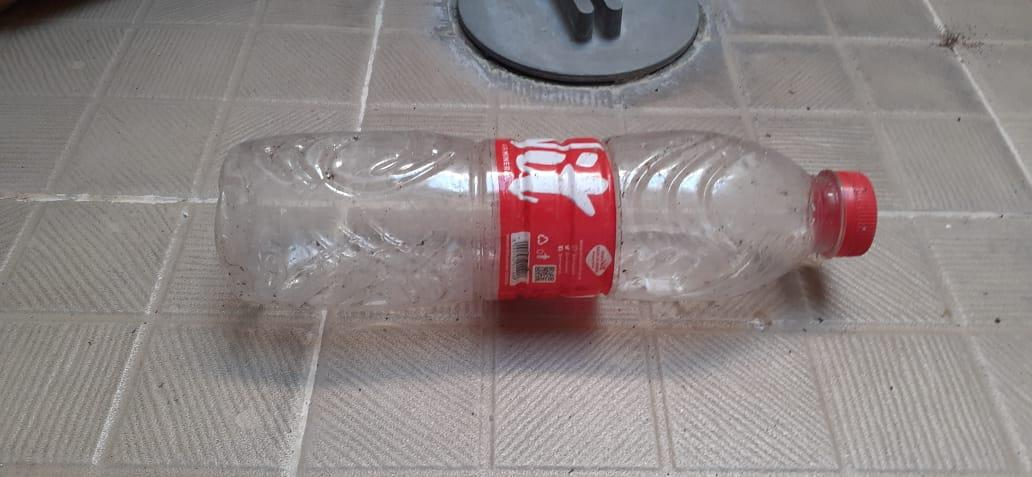Plastik: (216, 131, 879, 313)
